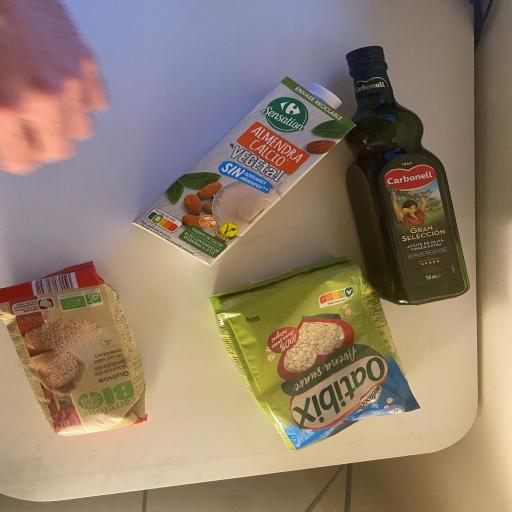almond_milk: (126, 74, 358, 268)
oats: (210, 256, 421, 452)
olive_oil: (343, 44, 473, 308)
quinoa: (0, 261, 152, 438)
